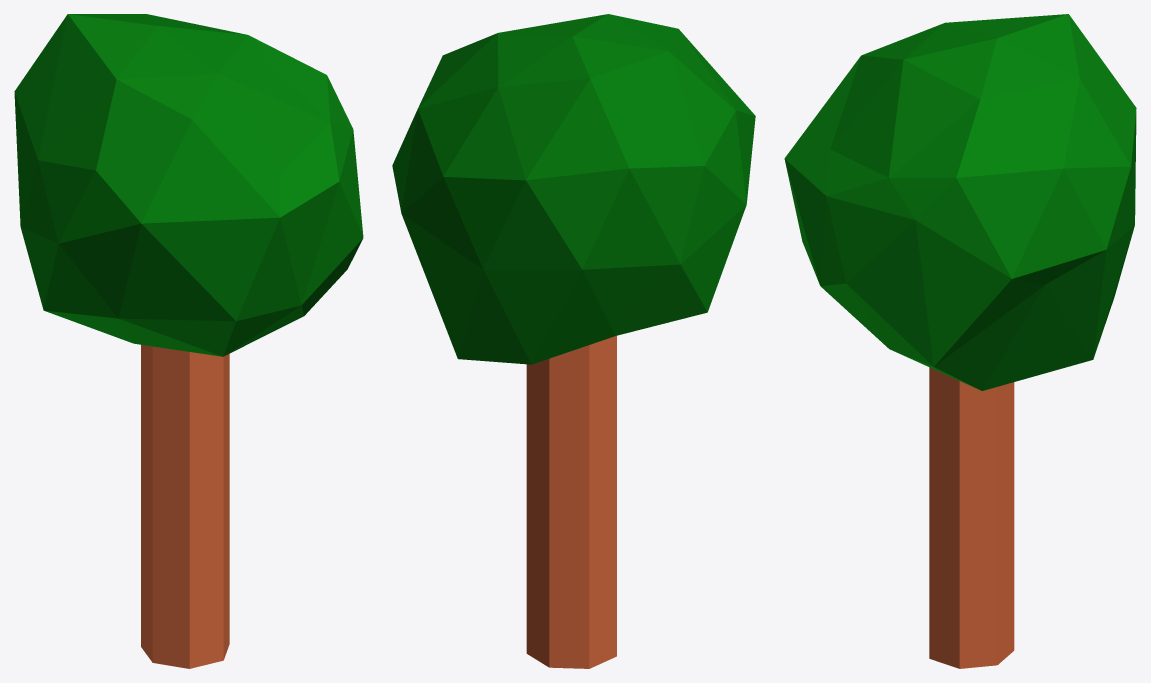
The model's file is tree2.glb.
3 renders of one model, left to right at view 1: azimuth 30°, elevation 25°; view 2: azimuth 150°, elevation 25°; view 3: azimuth 270°, elevation 25°, orthographic. The views are drawn at different scales.
Visible parts, largest first — view 1: Cone; view 2: Cone; view 3: Cone.
Boxes of the visible parts, <box> form: Cone: <box>14,14,363,668</box>; Cone: <box>392,14,755,668</box>; Cone: <box>784,14,1136,668</box>.
Bounding box in the file's own units: 1.58 × 3.05 × 1.61.
